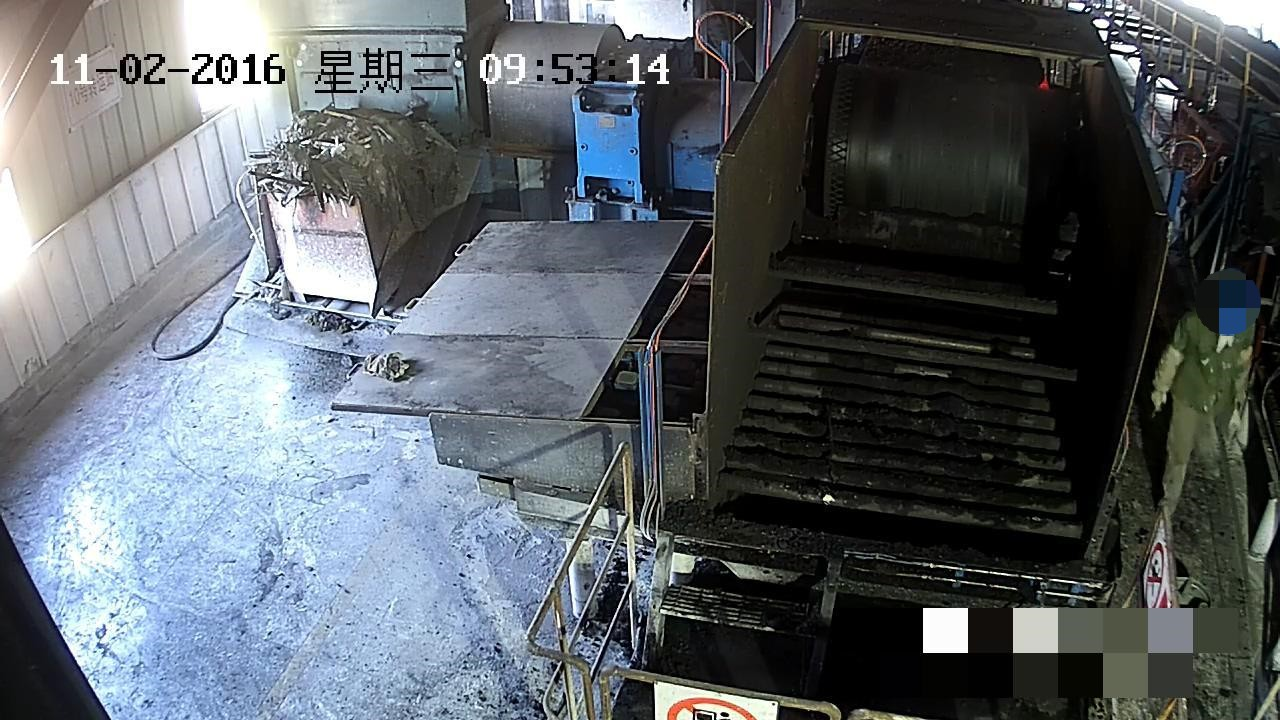hat: (1207, 271, 1248, 326)
person: (1151, 270, 1256, 521)
